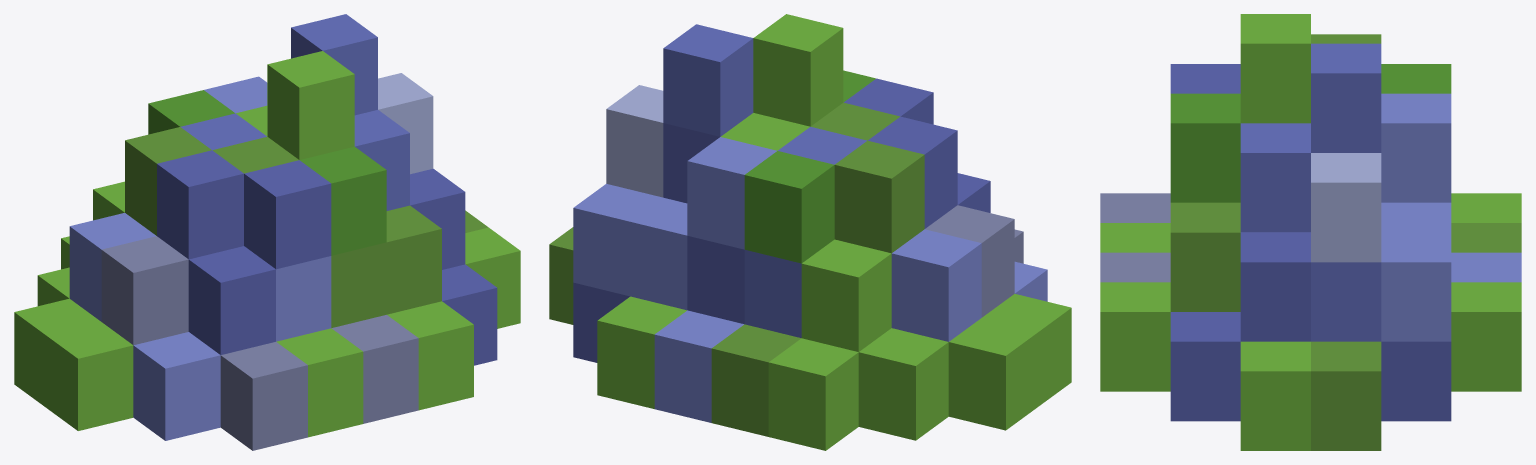
File: LedgeRock.glb
3 views of the same model, side by side, from view 1: azimuth 30°, elevation 25°; view 2: azimuth 150°, elevation 25°; view 3: azimuth 270°, elevation 25° (orthographic). The views are drawn at different scales.
Parts seen in each view (by area): view 1: LedgeRock; view 2: LedgeRock; view 3: LedgeRock.
Part boxes in pixels (x1,y1,x2,y2): LedgeRock: (14, 14, 520, 450); LedgeRock: (549, 14, 1071, 450); LedgeRock: (1100, 14, 1521, 450).
Bounding box in the file's own units: 16 × 10 × 12.
1 material, 1 textured.
